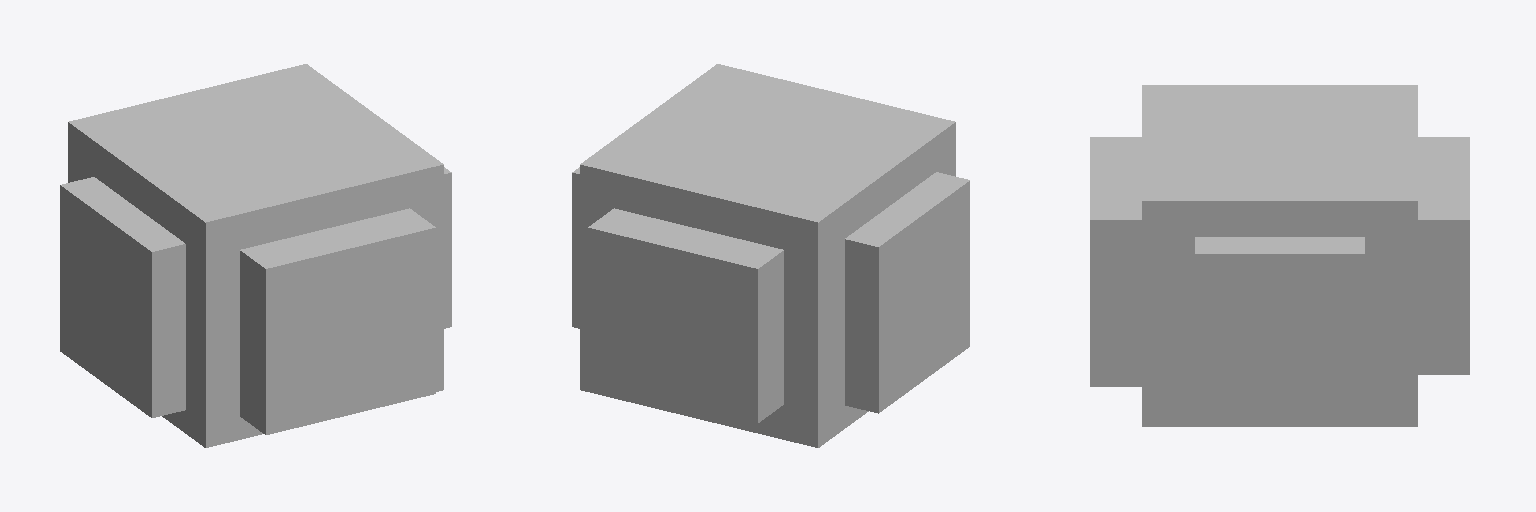
The model's file is bottom.obj.
The picture shows the model from 3 angles: view 1: azimuth 30°, elevation 25°; view 2: azimuth 150°, elevation 25°; view 3: azimuth 270°, elevation 25°; orthographic projection.
Size of the model in its own units: 27 by 19 by 29.